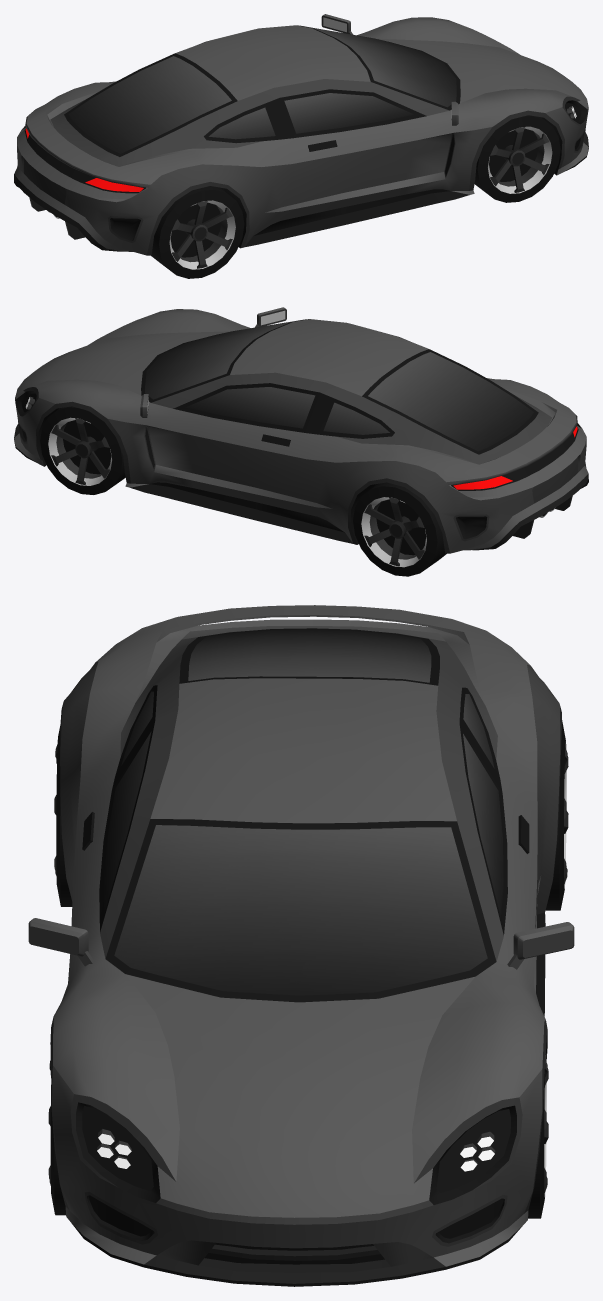
File: Car_110.glb
3 views of the same model, one above another, from view 1: azimuth 30°, elevation 25°; view 2: azimuth 150°, elevation 25°; view 3: azimuth 270°, elevation 25° (orthographic). The views are drawn at different scales.
Parts seen in each view (by area): view 1: Car_110, wheel_3_Car_110_Wheel_3R, wheel_1_Car_110_Wheel_1R; view 2: Car_110, wheel_2_Car_110_Wheel_2L, wheel_0_Car_110_Wheel_1L; view 3: Car_110, wheel_2_Car_110_Wheel_2L, wheel_0_Car_110_Wheel_1L, wheel_3_Car_110_Wheel_3R, wheel_1_Car_110_Wheel_1R.
Part boxes in pixels (bbox=[...]): Car_110: bbox=[14, 14, 588, 255]; wheel_3_Car_110_Wheel_3R: bbox=[151, 186, 244, 278]; wheel_1_Car_110_Wheel_1R: bbox=[474, 115, 560, 202]; Car_110: bbox=[14, 307, 588, 553]; wheel_2_Car_110_Wheel_2L: bbox=[353, 482, 446, 576]; wheel_0_Car_110_Wheel_1L: bbox=[40, 406, 125, 494]; Car_110: bbox=[28, 605, 574, 1286]; wheel_2_Car_110_Wheel_2L: bbox=[545, 720, 568, 910]; wheel_0_Car_110_Wheel_1L: bbox=[528, 1053, 548, 1218]; wheel_3_Car_110_Wheel_3R: bbox=[54, 726, 72, 906]; wheel_1_Car_110_Wheel_1R: bbox=[48, 1060, 65, 1215].
Size of the model in its own units: 4.77 by 1.26 by 2.12.
Materials: 3 (3 with a texture image).
